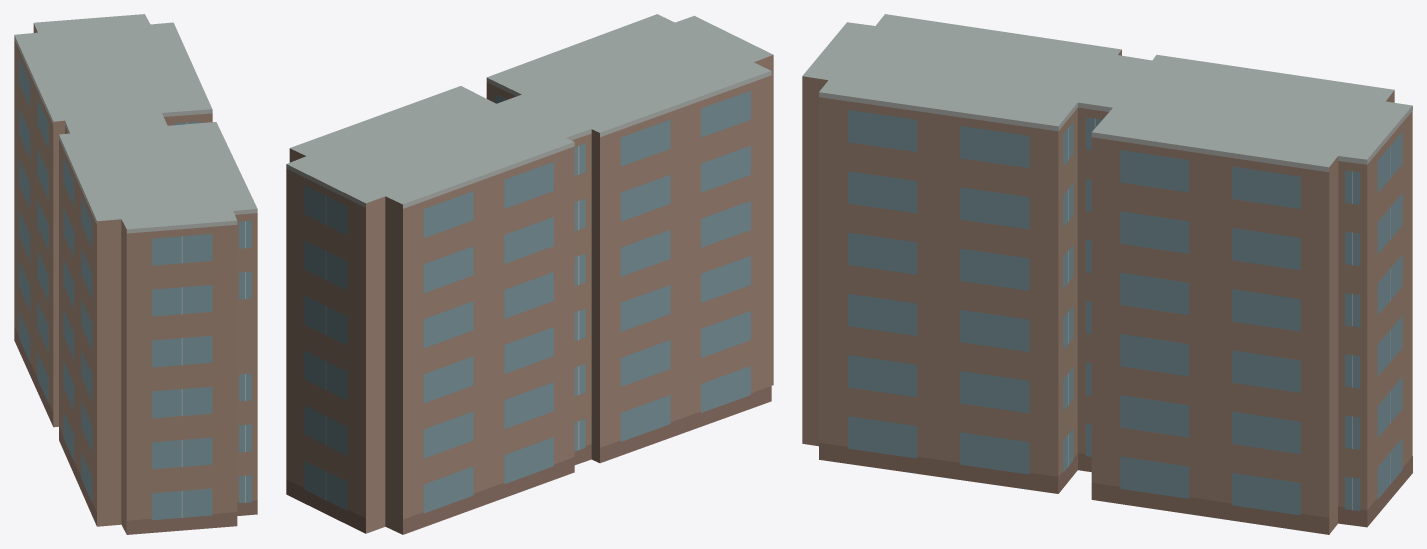
File: survey-upis-32965388.glb
3 renders of one model, left to right at view 1: azimuth 30°, elevation 25°; view 2: azimuth 150°, elevation 25°; view 3: azimuth 270°, elevation 25°, orthographic. The views are drawn at different scales.
Visible parts, largest first — view 1: survey-upis-32965388.tmp; view 2: survey-upis-32965388.tmp; view 3: survey-upis-32965388.tmp.
Boxes of the visible parts, x1,y1,x2,y2 form: survey-upis-32965388.tmp: [14, 14, 257, 534]; survey-upis-32965388.tmp: [286, 14, 773, 534]; survey-upis-32965388.tmp: [802, 14, 1412, 534].
Bounding box in the file's own units: 16.11 × 18 × 27.11.
